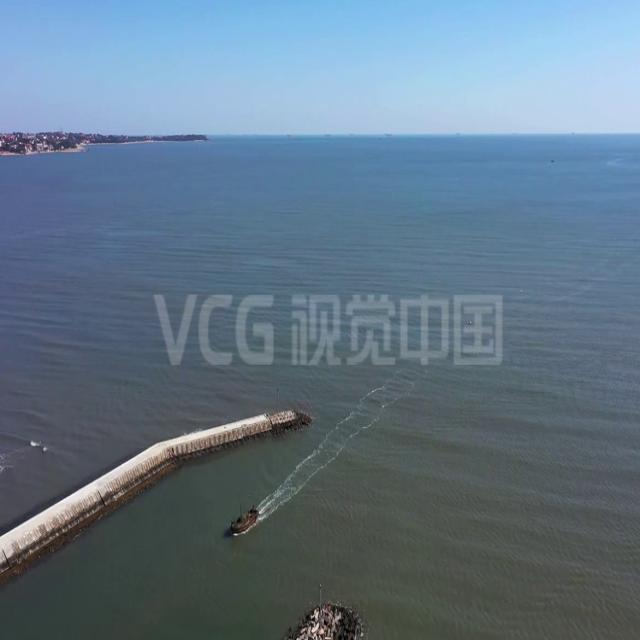houseboat: (227, 500, 260, 540)
